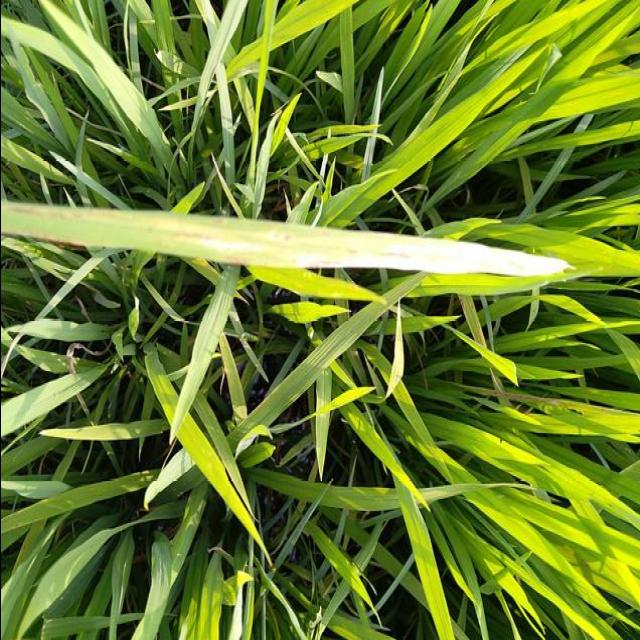Leaf Streak: (0, 200, 567, 277)
